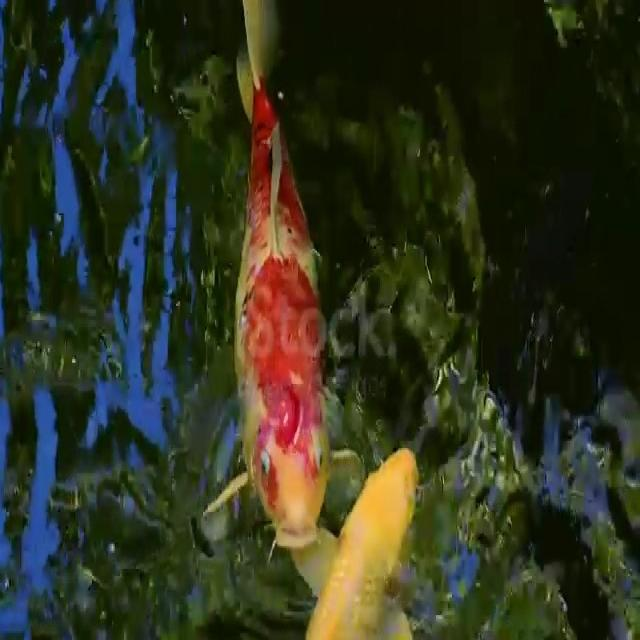fish: (193, 3, 354, 562), (306, 439, 444, 640)
